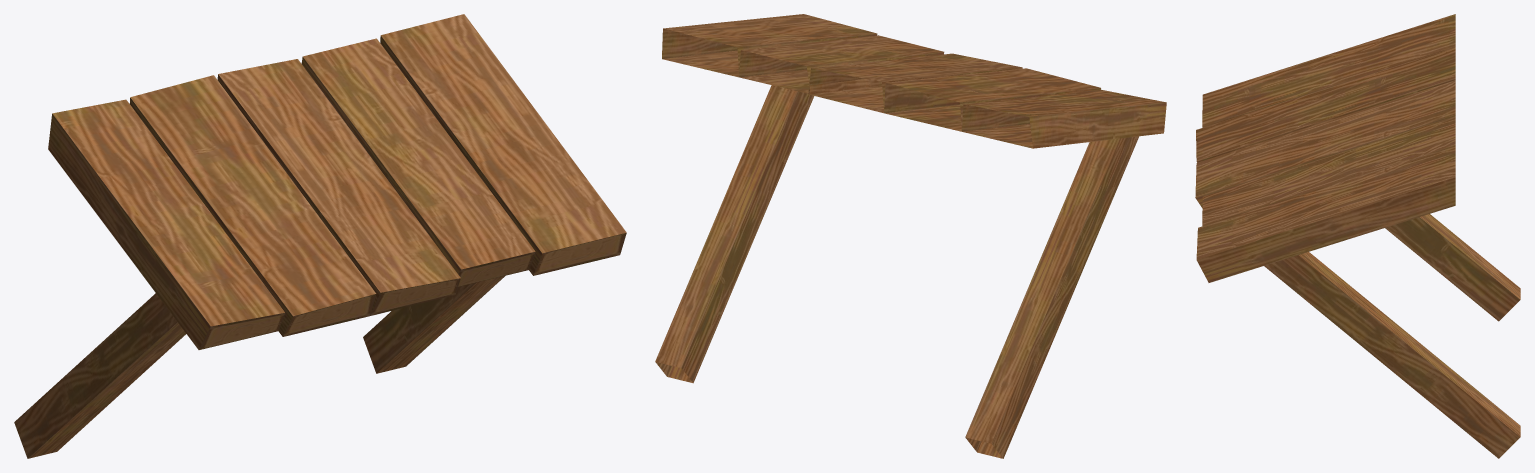
File: roof-qm-windowroofwide.glb
3 views of the same model, side by side, from view 1: azimuth 30°, elevation 25°; view 2: azimuth 150°, elevation 25°; view 3: azimuth 270°, elevation 25° (orthographic). The views are drawn at different scales.
Parts seen in each view (by area): view 1: Cube_170; view 2: Cube_170; view 3: Cube_170.
Boxes of the visible parts, x1,y1,x2,y2 form: Cube_170: (14,14,626,458); Cube_170: (655,14,1166,458); Cube_170: (1195,14,1520,458).
Bounding box in the file's own units: 1.42 × 1.18 × 1.18.
2 materials, 2 textured.
